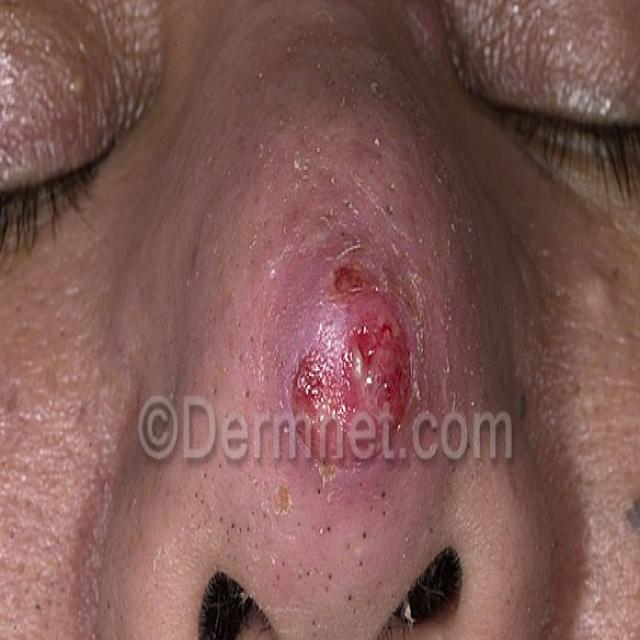Acne: (287, 243, 433, 477)
